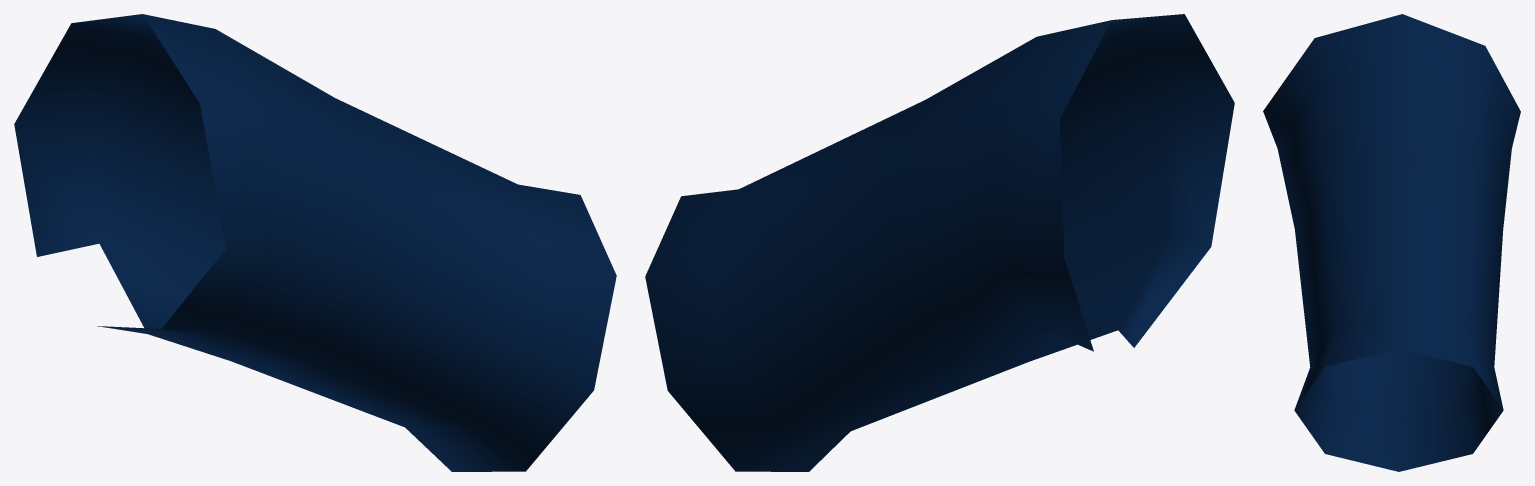
The model's file is rightupper.obj.
The picture shows the model from 3 angles, left to right: view 1: azimuth 30°, elevation 25°; view 2: azimuth 150°, elevation 25°; view 3: azimuth 270°, elevation 25°; orthographic projection. The views are drawn at different scales.
Visible parts, largest first — view 1: polySurface6 _Mesh1; view 2: polySurface6 _Mesh1; view 3: polySurface6 _Mesh1.
Part boxes in pixels (x1,y1,x2,y2): polySurface6 _Mesh1: (14, 14, 616, 471); polySurface6 _Mesh1: (645, 14, 1234, 471); polySurface6 _Mesh1: (1263, 14, 1520, 471).
Size of the model in its own units: 15.8 by 16.73 by 10.94.
